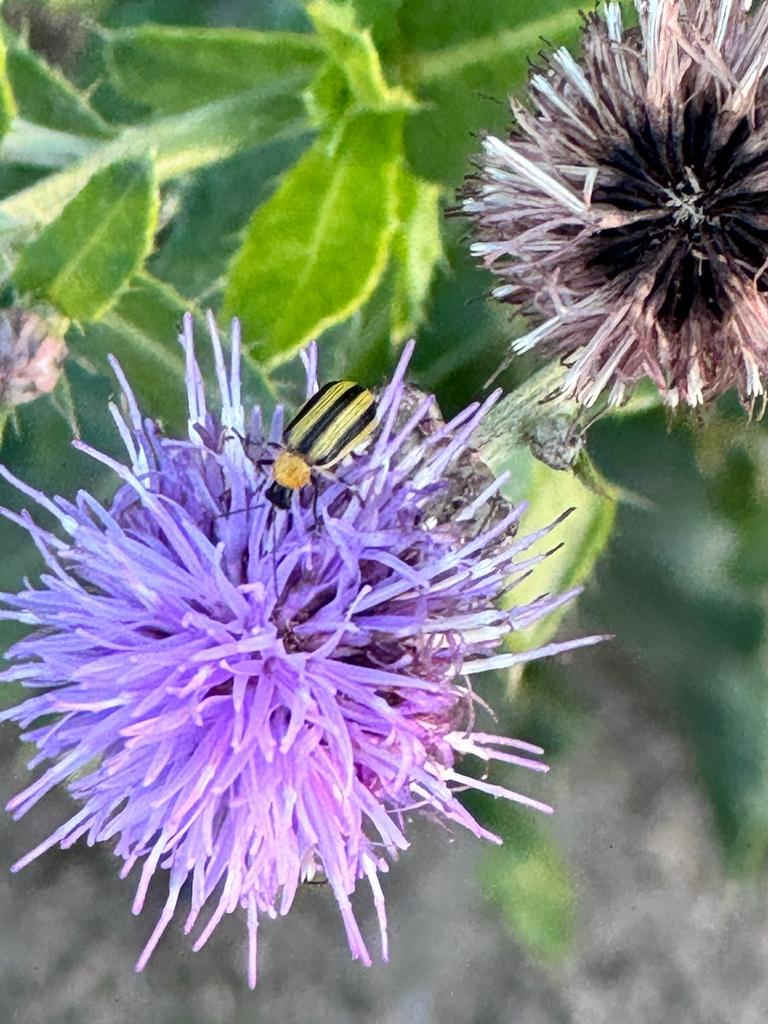potato_beetle: (206, 340, 417, 549)
